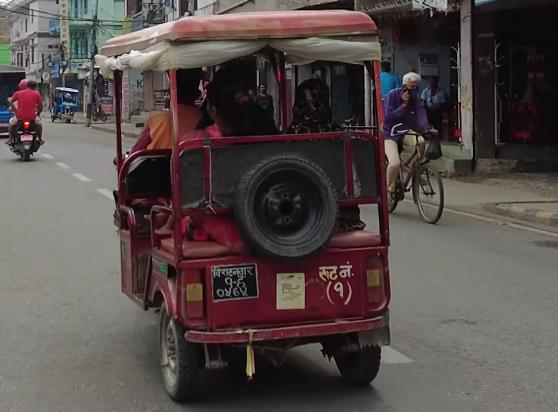e-rickshaw: (102, 9, 398, 404), (49, 84, 78, 129)
